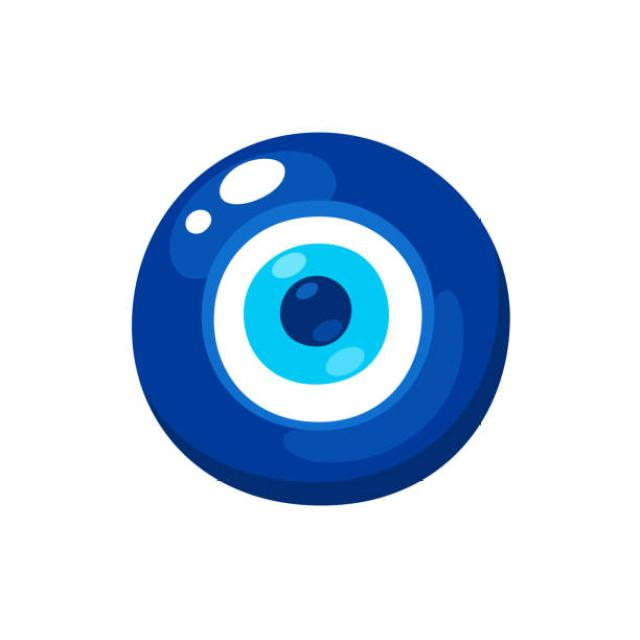Nazar-Boncugu: (130, 132, 511, 506)
